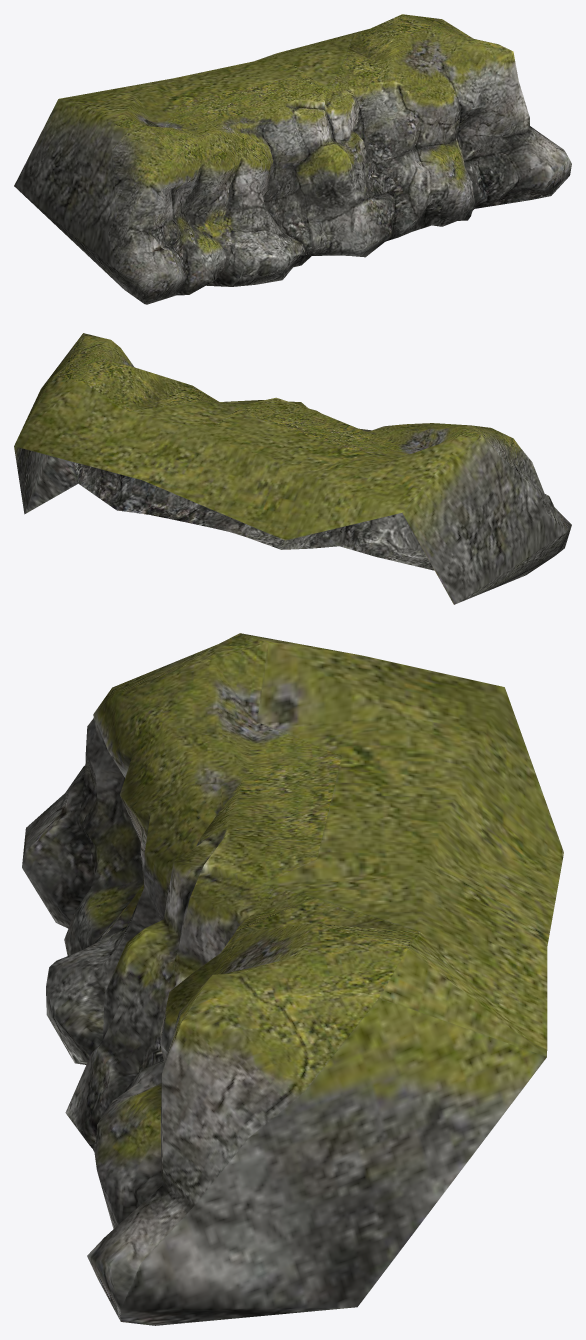
File: generic_cliff.fbx
The picture shows the model from 3 angles, top to bottom: view 1: azimuth 30°, elevation 25°; view 2: azimuth 150°, elevation 25°; view 3: azimuth 270°, elevation 25°; orthographic projection. The views are drawn at different scales.
Parts seen in each view (by area): view 1: generic_cliff; view 2: generic_cliff; view 3: generic_cliff.
Boxes of the visible parts, x1,y1,x2,y2 form: generic_cliff: (14,14,571,304); generic_cliff: (14,333,571,604); generic_cliff: (22,633,563,1325).
Bounding box in the file's own units: 31.62 × 11.08 × 16.07.
